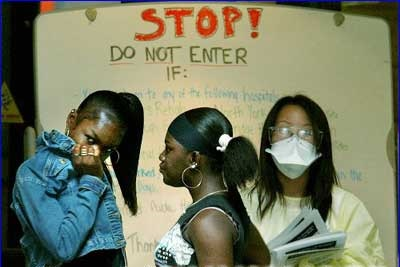face: (71, 117, 121, 166), (159, 134, 192, 186)
face_mask: (269, 110, 319, 171)
